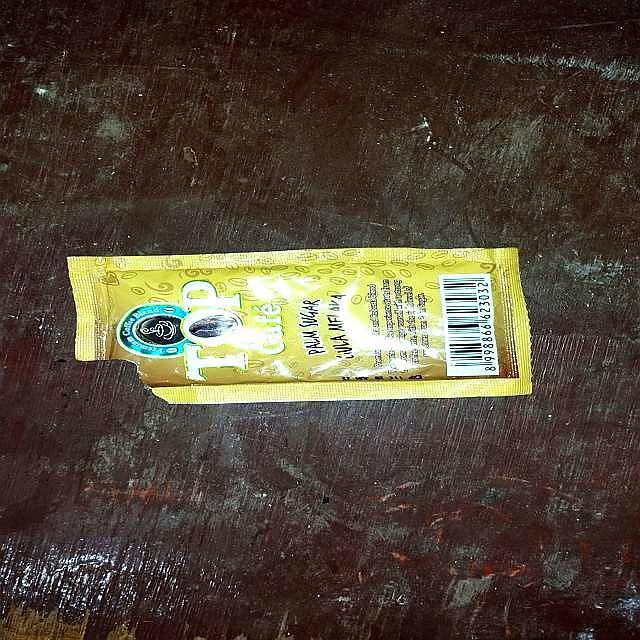Non-biodegradable: (67, 245, 534, 404)
